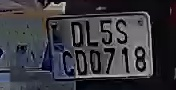0: (87, 49, 105, 76)
1: (120, 47, 134, 74)
5: (98, 17, 116, 45)
7: (101, 48, 117, 74)
8: (132, 46, 148, 73)
C: (61, 49, 75, 78)
D: (68, 19, 86, 50), (74, 48, 91, 78)
L: (84, 19, 100, 50)
S: (113, 19, 131, 45)
